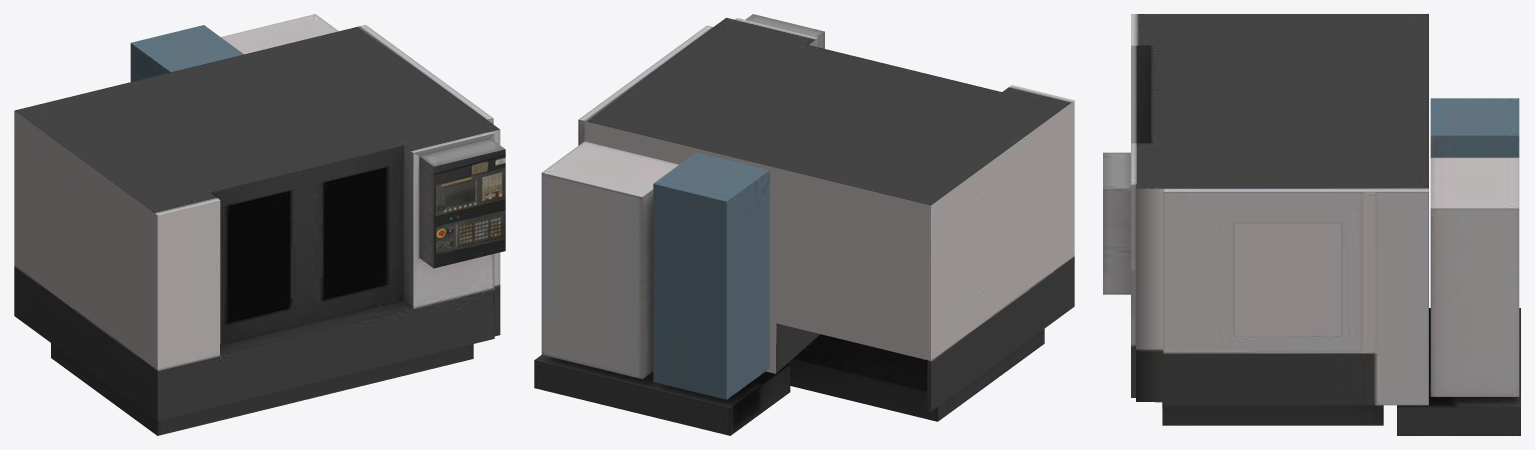
3 views of the same model, side by side, from view 1: azimuth 30°, elevation 25°; view 2: azimuth 150°, elevation 25°; view 3: azimuth 270°, elevation 25° (orthographic). The views are drawn at different scales.
Parts seen in each view (by area): view 1: XK714D_0; view 2: XK714D_0; view 3: XK714D_0.
Boxes of the visible parts, left/top/right/bottom form: XK714D_0: left=14, top=14, right=505, bottom=435; XK714D_0: left=534, top=14, right=1074, bottom=435; XK714D_0: left=1103, top=14, right=1520, bottom=435.
Size of the model in its own units: 0.9345 by 0.5975 by 0.9272.
Materials: 1 (1 with a texture image).
